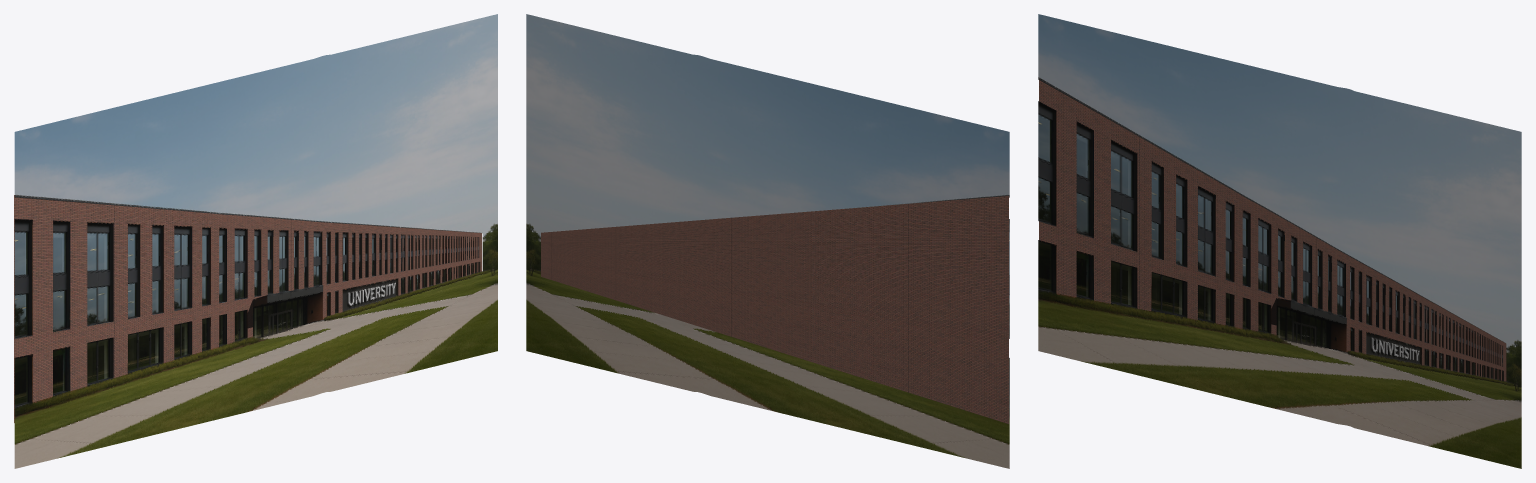
The model's file is place-university.glb.
3 renders of one model, left to right at view 1: azimuth 30°, elevation 25°; view 2: azimuth 150°, elevation 25°; view 3: azimuth 330°, elevation 25°, orthographic.
Visible parts, largest first — view 1: Plane; view 2: Plane; view 3: Plane.
Boxes of the visible parts, x1,y1,x2,y2 form: Plane: [14, 14, 497, 468]; Plane: [526, 14, 1009, 468]; Plane: [1038, 14, 1521, 468].
Size of the model in its own units: 1.5 by 1 by 0.00375.
Materials: 3 (2 with a texture image).
